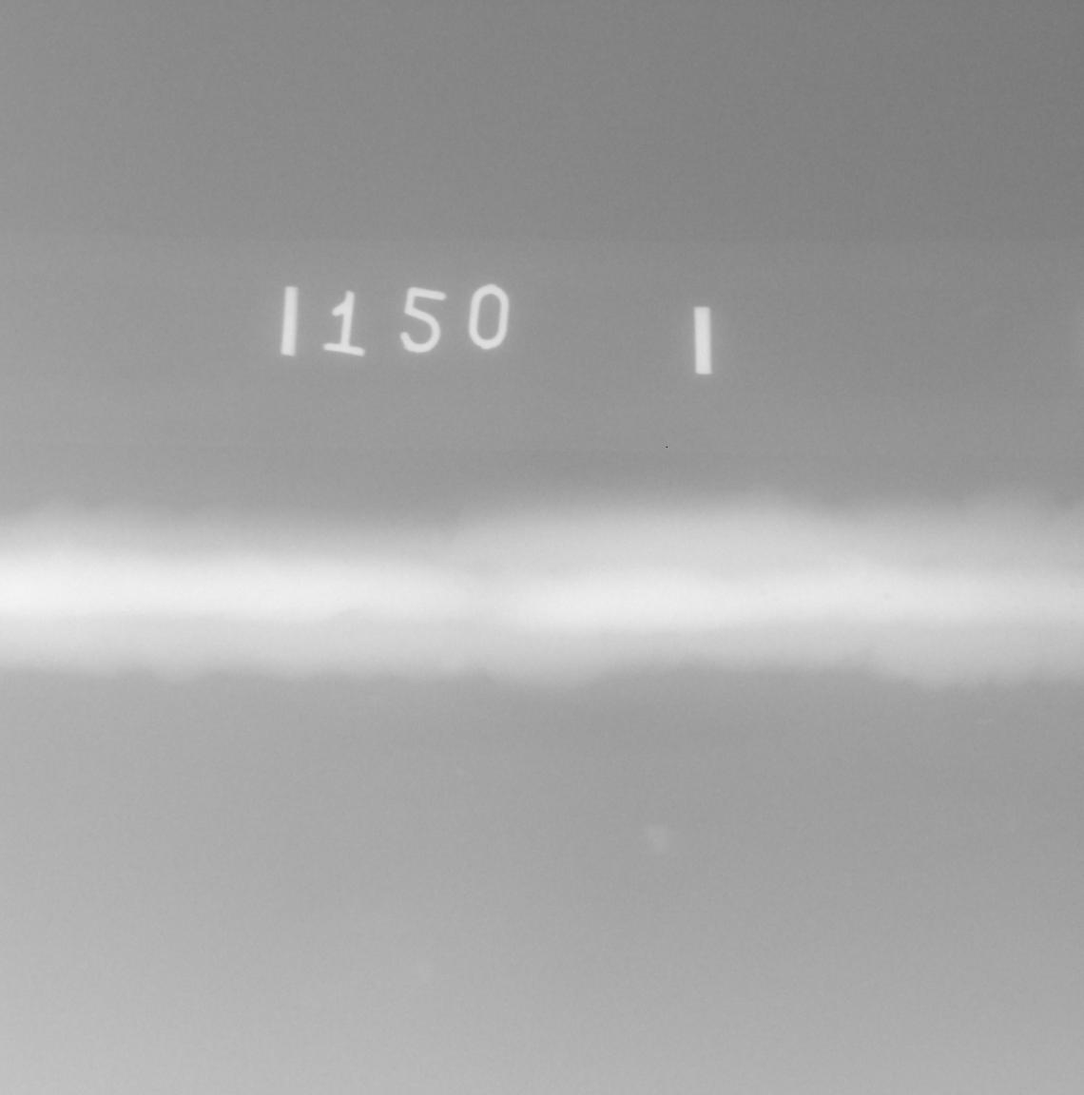Pore/Porosity: (760, 590, 769, 595), (885, 593, 892, 599), (466, 588, 473, 593), (1013, 605, 1020, 610), (850, 573, 856, 578), (453, 582, 459, 586), (1071, 605, 1077, 609), (1070, 620, 1074, 625), (1071, 584, 1076, 588), (549, 569, 554, 572)
